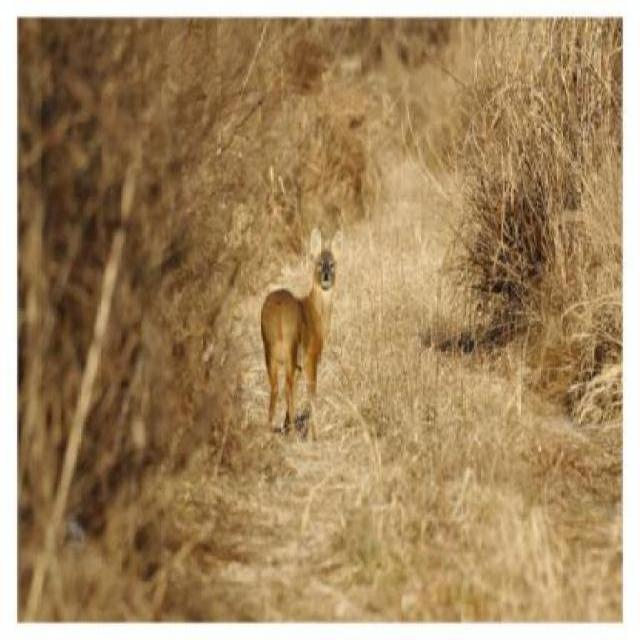deer: (245, 223, 347, 448)
